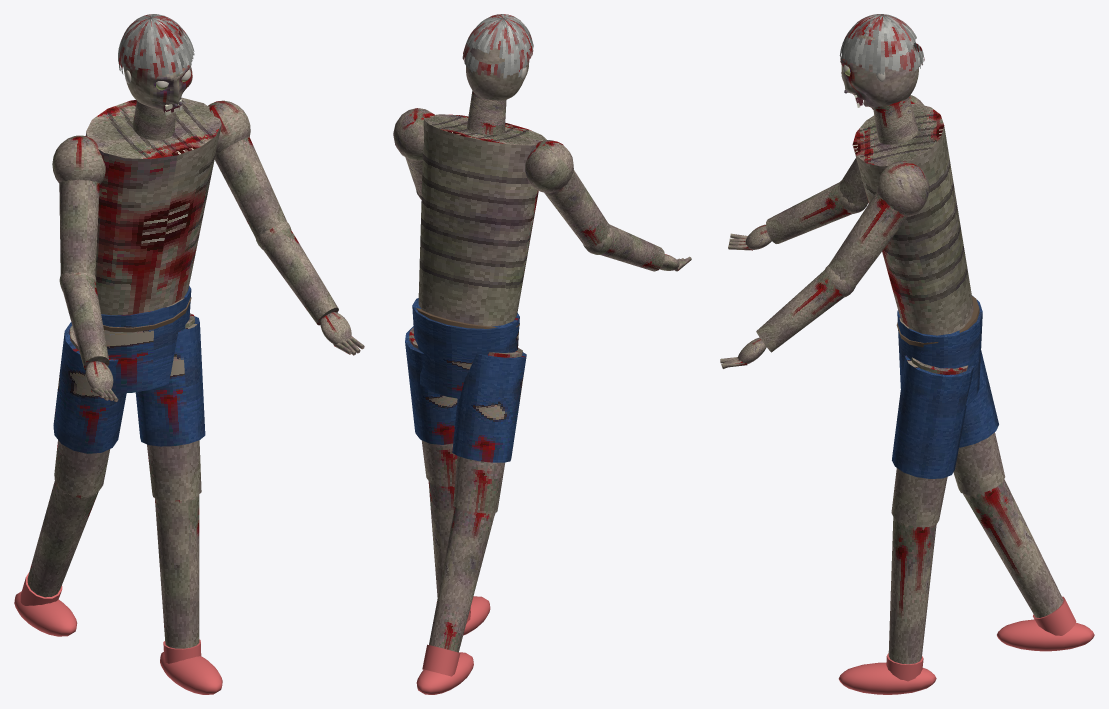
File: Zombie_142.glb
The picture shows the model from 3 angles, left to right: view 1: azimuth 30°, elevation 25°; view 2: azimuth 150°, elevation 25°; view 3: azimuth 270°, elevation 25°; orthographic projection. The views are drawn at different scales.
Parts seen in each view (by area): view 1: Zombie_142, object 42, object 10, object 3, object 16, object 11, object 4; view 2: Zombie_142, object 42, object 16, object 3; view 3: Zombie_142, object 42, object 10, object 3, object 16.
Boxes of the visible parts, bbox=[...] form: Zombie_142: bbox=[14, 97, 286, 694]; object 42: bbox=[118, 14, 194, 76]; object 10: bbox=[263, 228, 338, 325]; object 3: bbox=[62, 275, 109, 370]; object 16: bbox=[123, 34, 192, 110]; object 11: bbox=[320, 312, 351, 344]; object 4: bbox=[85, 361, 113, 390]; Zombie_142: bbox=[393, 90, 610, 694]; object 42: bbox=[462, 14, 533, 76]; object 16: bbox=[466, 47, 529, 100]; object 3: bbox=[600, 224, 665, 271]; Zombie_142: bbox=[828, 95, 1094, 694]; object 42: bbox=[839, 14, 924, 71]; object 10: bbox=[756, 270, 844, 352]; object 3: bbox=[766, 182, 851, 243]; object 16: bbox=[840, 35, 918, 110].
Bounding box in the file's own units: 0.7497 × 1.88 × 0.9723.
16 materials, 6 textured.
